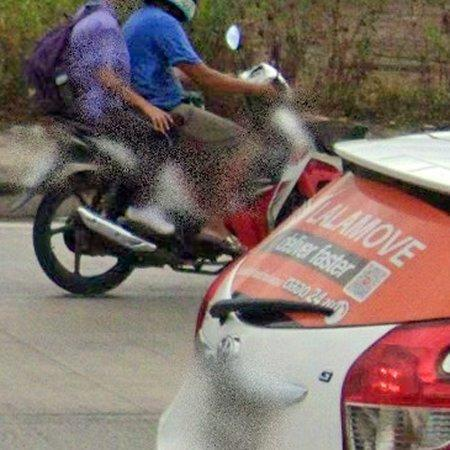motorcycles: (33, 63, 342, 296)
